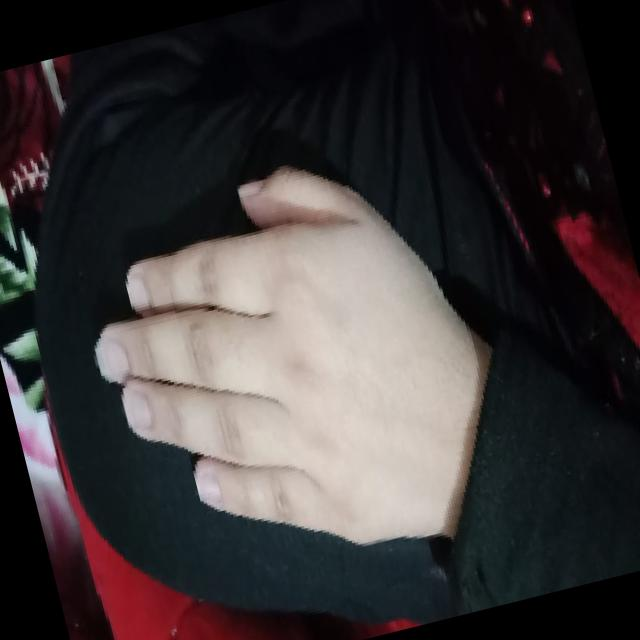Nail: (95, 337, 131, 377), (122, 389, 153, 428), (126, 272, 151, 310), (195, 471, 221, 507), (237, 178, 263, 196)
